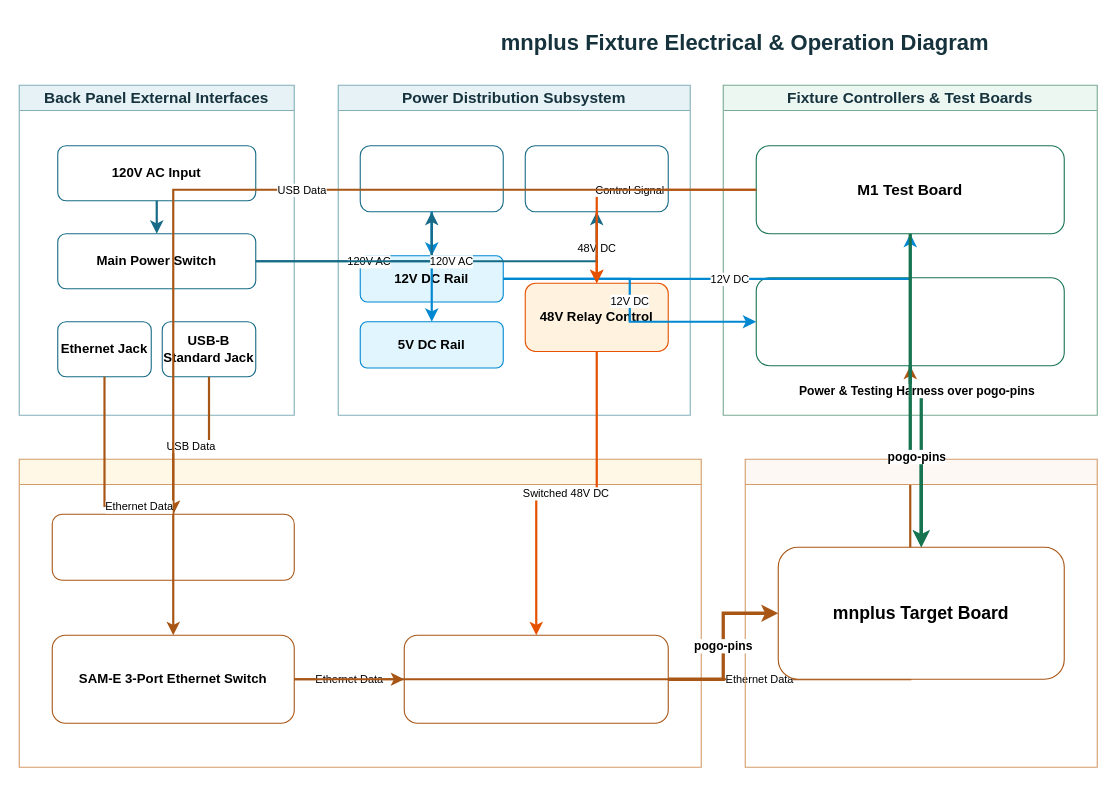
Some shapes in this 1117 by 787 pixel diagram are drawn without their labels. The box of each missing label's shape, as (x1, y1, x2, y2) in pixels:
120V AC to 48V DC PSU: (524, 145, 668, 212)
Data & Power Injection Subsystem: (18, 458, 701, 767)
Ethernet Power Injector: (403, 634, 668, 723)
Internal USB Hub: (51, 513, 294, 580)
Main PSU 12V & 5V DC: (359, 145, 503, 212)
Mercury Test Board: (755, 277, 1064, 366)
UUT Board: (744, 458, 1097, 767)
